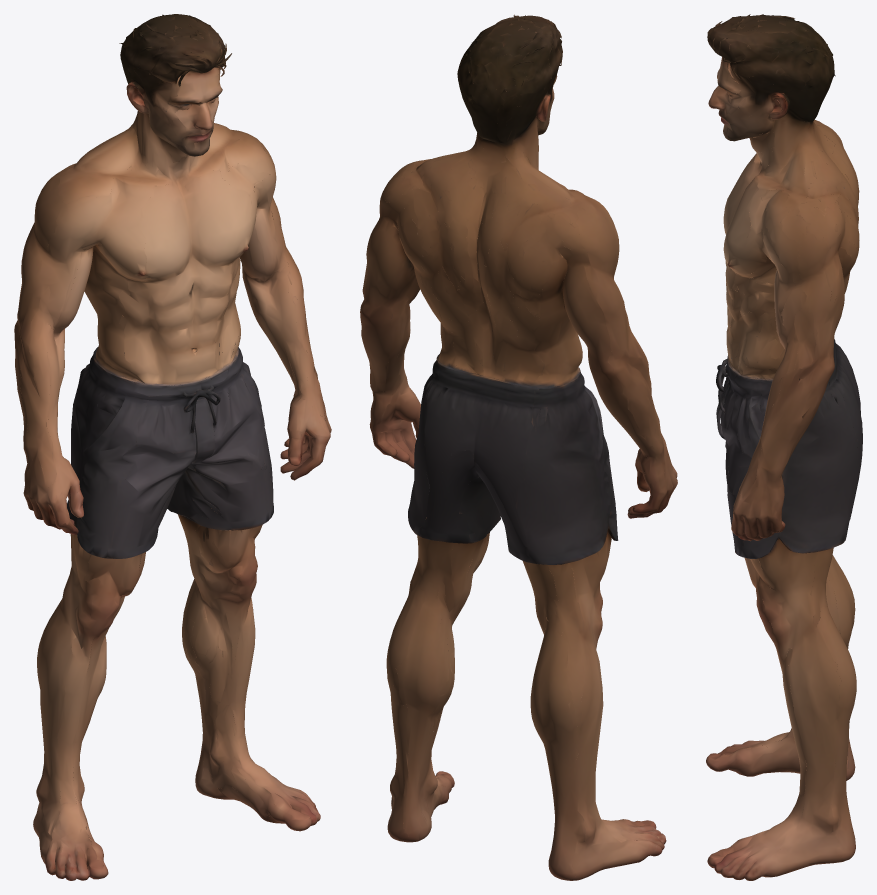
The model's file is game.glb.
3 views of the same model, side by side, from view 1: azimuth 30°, elevation 25°; view 2: azimuth 150°, elevation 25°; view 3: azimuth 270°, elevation 25° (orthographic).
Visible parts, largest first — view 1: node_0; view 2: node_0; view 3: node_0.
Boxes of the visible parts, <box> form: node_0: <box>14,14,331,880</box>; node_0: <box>360,14,677,880</box>; node_0: <box>706,14,862,880</box>.
Bounding box in the file's own units: 0.4365 × 1.14 × 0.2016.
Materials: 1 (1 with a texture image).
